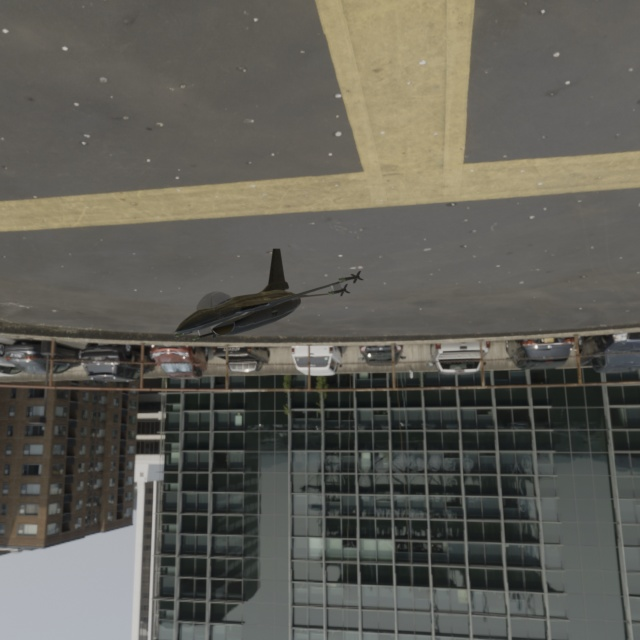model: (48, 204, 374, 384)
